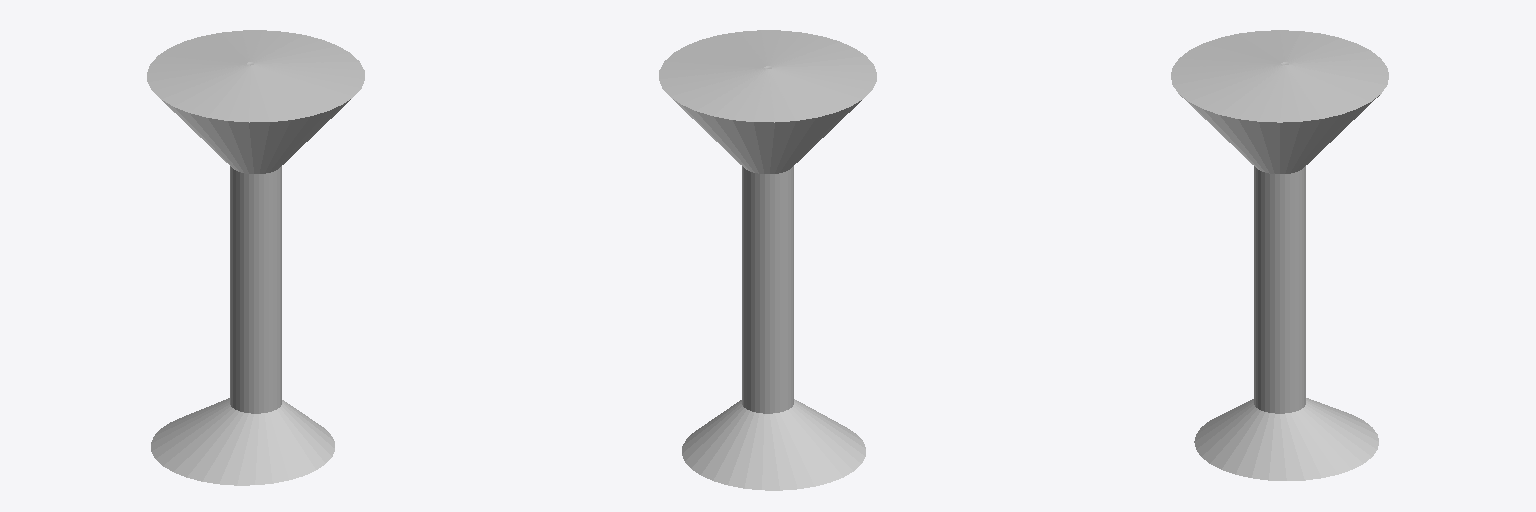
File: silla1.obj
3 renders of one model, left to right at view 1: azimuth 30°, elevation 25°; view 2: azimuth 150°, elevation 25°; view 3: azimuth 270°, elevation 25°, orthographic.
Size of the model in its own units: 1.08 by 2.09 by 1.08.